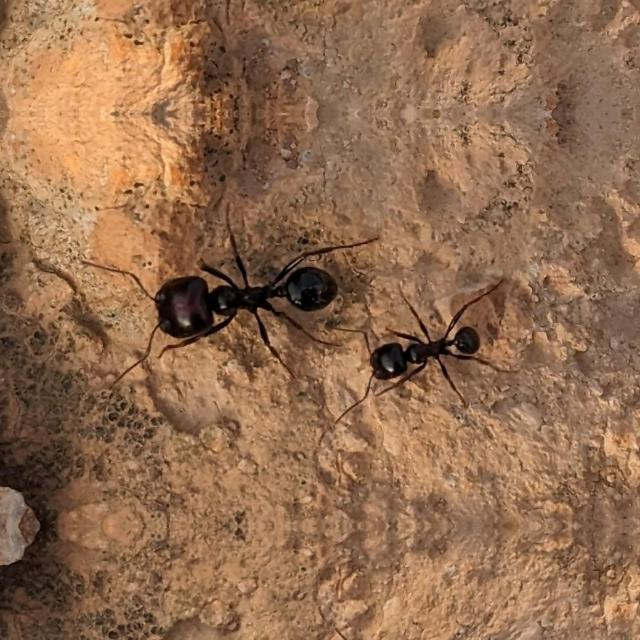Messor: (145, 251, 335, 353), (364, 312, 474, 394)
